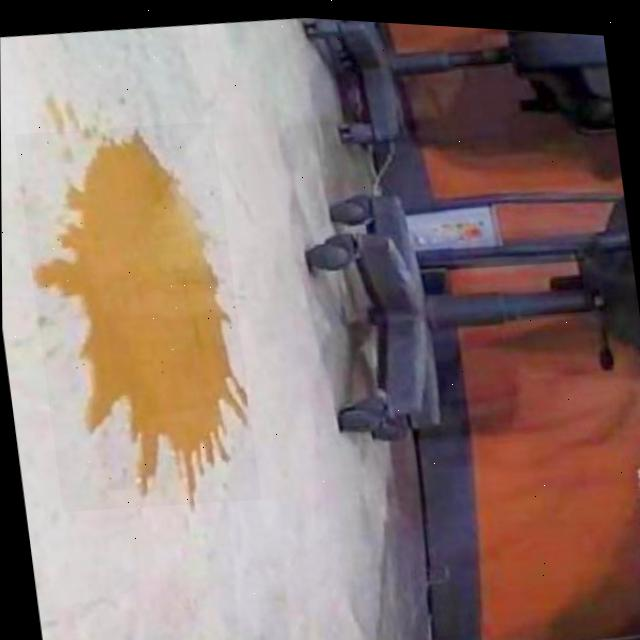spillage: (31, 126, 245, 501)
